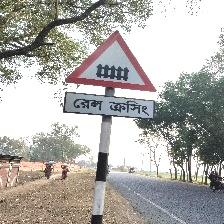Rail-crossing: (63, 31, 159, 120)
